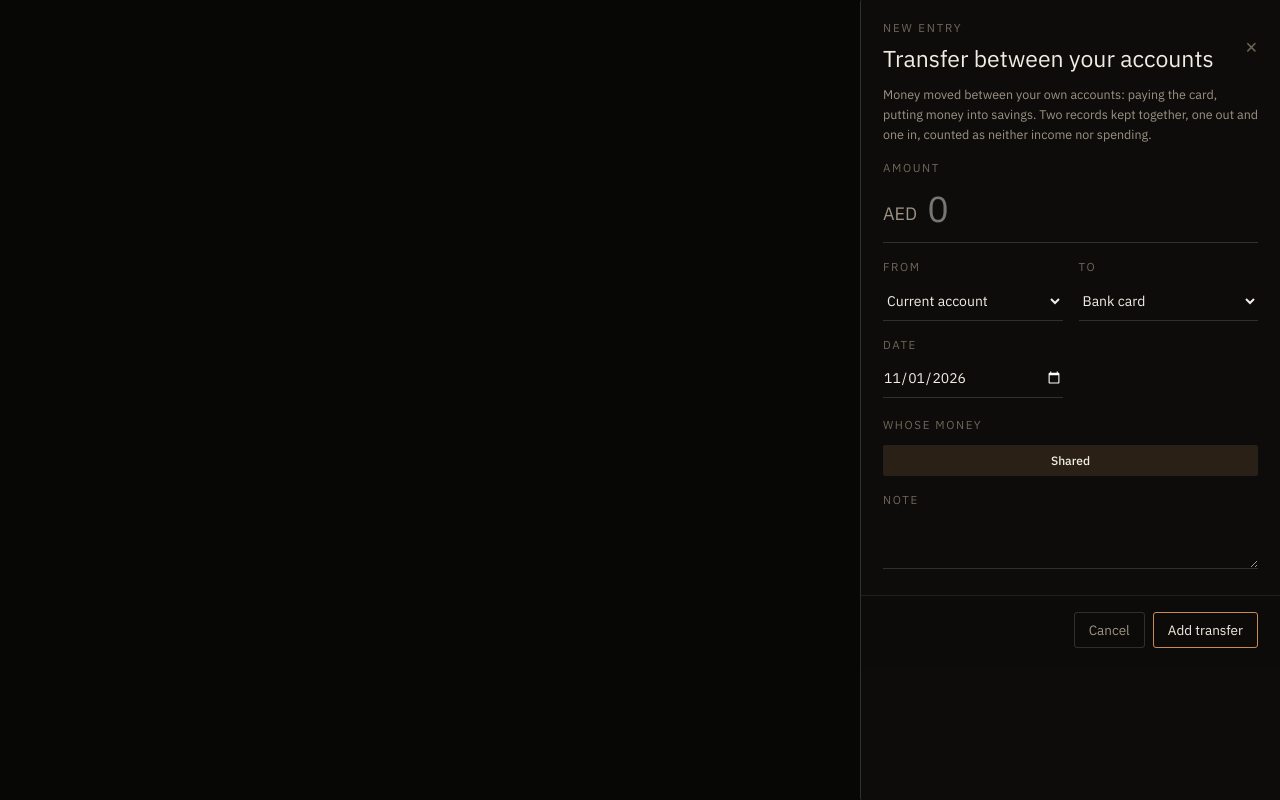
Test: TransferEditor › refuses a transfer from an account to itself
The width and height of the screenshot is (1280, 800).
Type "50" into the number field named "Amount" at (1093, 208), box 927,185 -> 1258,232
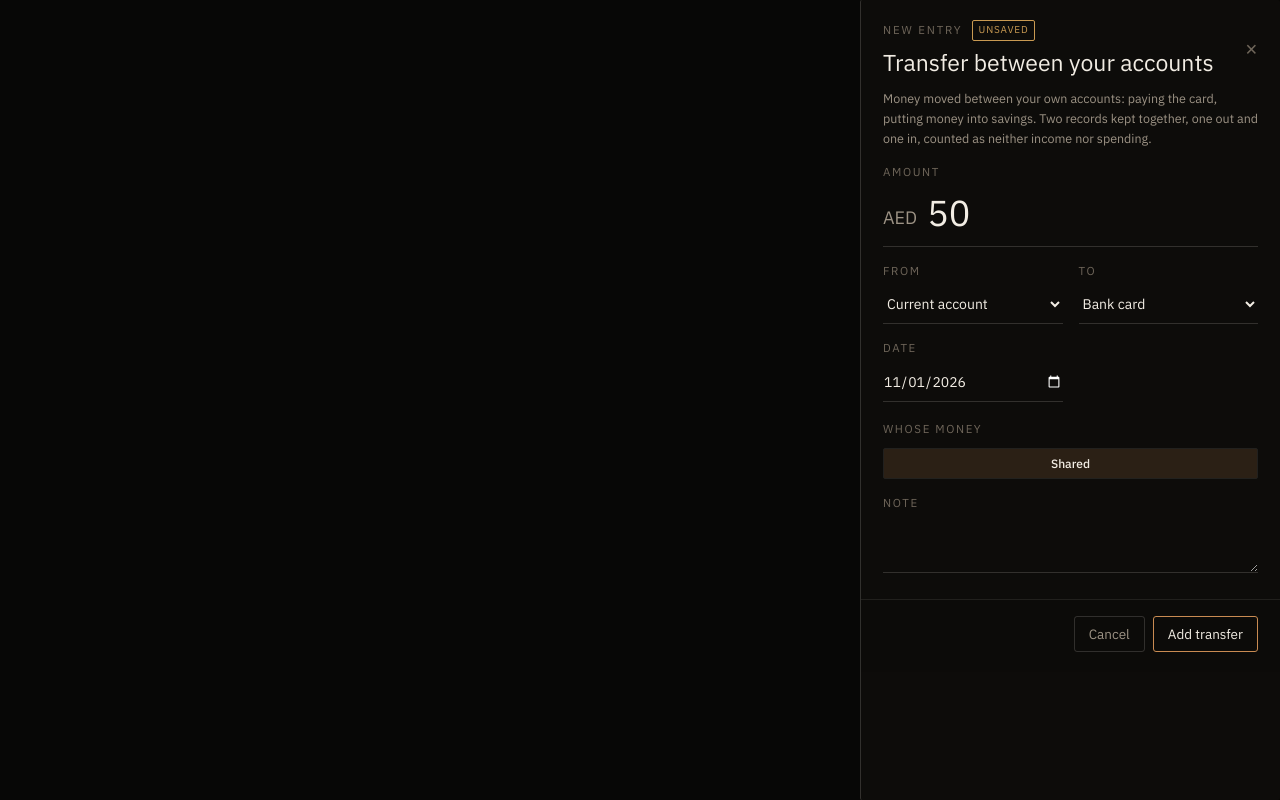
Select "Current account" in the dropdown named "To account" at (1168, 305), box 1078,285 -> 1258,324
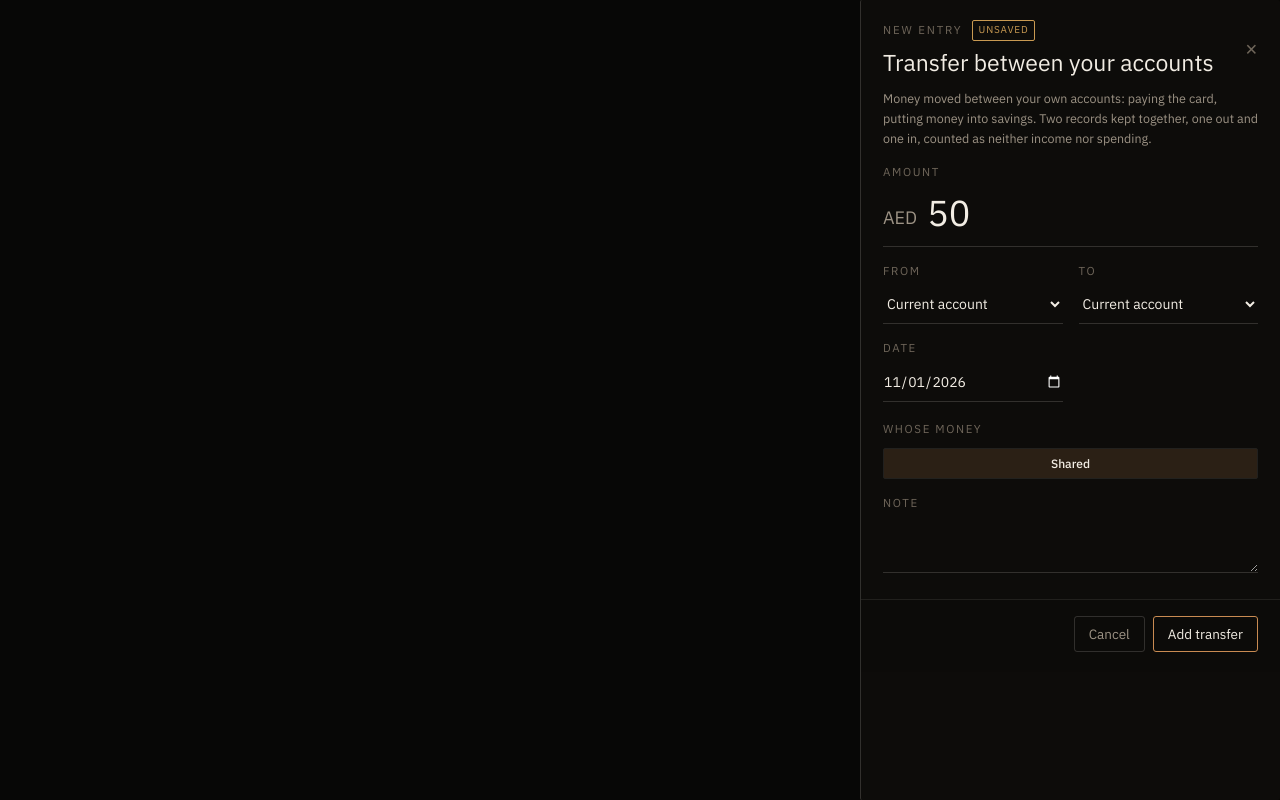
Click the button "Add transfer" at (1205, 634), box 1153,616 -> 1258,652
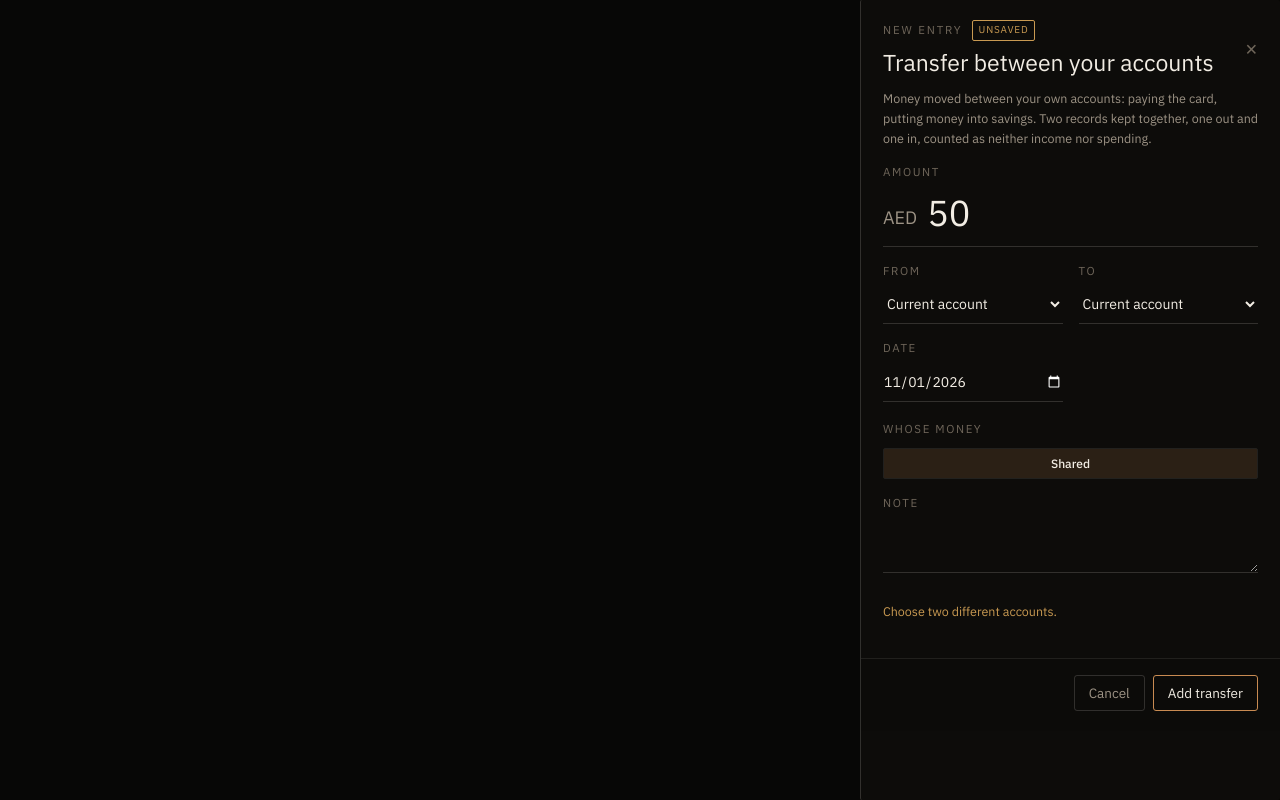
Now the message reads "Choose two different accounts.", box 883,603 -> 1057,619
